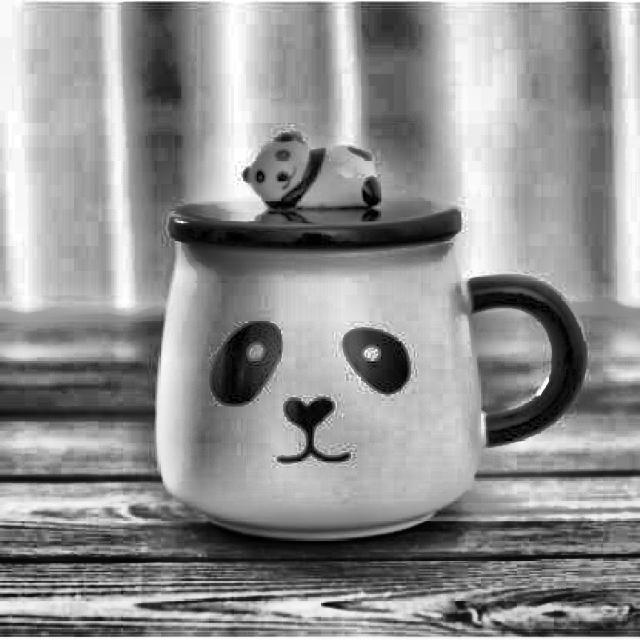Mug: (153, 203, 585, 546)
